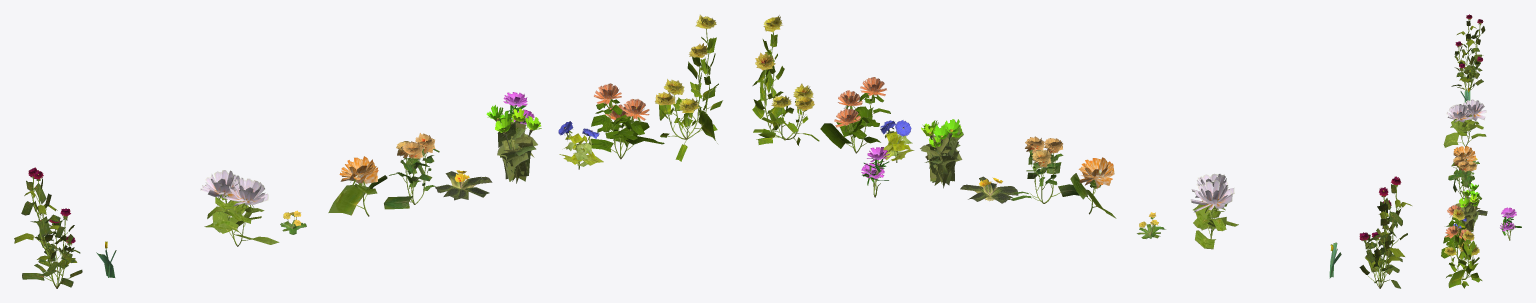
File: flowers.fbx
The picture shows the model from 3 angles, left to right: view 1: azimuth 30°, elevation 25°; view 2: azimuth 150°, elevation 25°; view 3: azimuth 270°, elevation 25°; orthographic projection. The views are drawn at different scales.
Visible parts, largest first — view 1: Yellow_F, Red_Rose, White_Fl, Orange_S, Colorful, Multicol, Small_Mu, Small_Bl, Primrose, Pink_Fri; view 2: Yellow_F, Orange_S, Red_Rose, White_Fl, Colorful, Multicol, Small_Mu, Small_Bl, Primrose, Pink_Fri; view 3: Yellow_F, White_Fl, Red_Rose, Colorful, Multicol, Orange_S, Pink_Fri, Small_Mu, Young_Tu.
Part boxes in pixels (x1,y1,x2,y2): Yellow_F: [655, 14, 722, 161]; Red_Rose: [14, 167, 82, 288]; White_Fl: [200, 170, 279, 246]; Orange_S: [589, 83, 664, 159]; Colorful: [486, 105, 541, 183]; Multicol: [384, 133, 439, 209]; Small_Mu: [328, 156, 387, 216]; Small_Bl: [558, 121, 603, 169]; Primrose: [435, 170, 492, 200]; Pink_Fri: [503, 92, 534, 128]; Yellow_F: [752, 15, 819, 145]; Orange_S: [820, 77, 890, 153]; Red_Rose: [1359, 176, 1411, 288]; White_Fl: [1190, 173, 1238, 249]; Colorful: [920, 119, 963, 188]; Multicol: [1011, 136, 1087, 203]; Small_Mu: [1070, 157, 1116, 218]; Small_Bl: [880, 120, 914, 162]; Primrose: [960, 176, 1018, 203]; Pink_Fri: [861, 147, 889, 197]; Yellow_F: [1444, 208, 1482, 288]; White_Fl: [1443, 99, 1486, 147]; Red_Rose: [1451, 14, 1485, 90]; Colorful: [1455, 183, 1480, 231]; Multicol: [1448, 156, 1481, 199]; Orange_S: [1441, 205, 1472, 258]; Pink_Fri: [1500, 207, 1521, 240]; Small_Mu: [1451, 146, 1475, 167]; Young_Tu: [1460, 87, 1470, 103].
Size of the model in its own units: 10.6 by 1.92 by 1.76.
12 materials, 12 textured.
